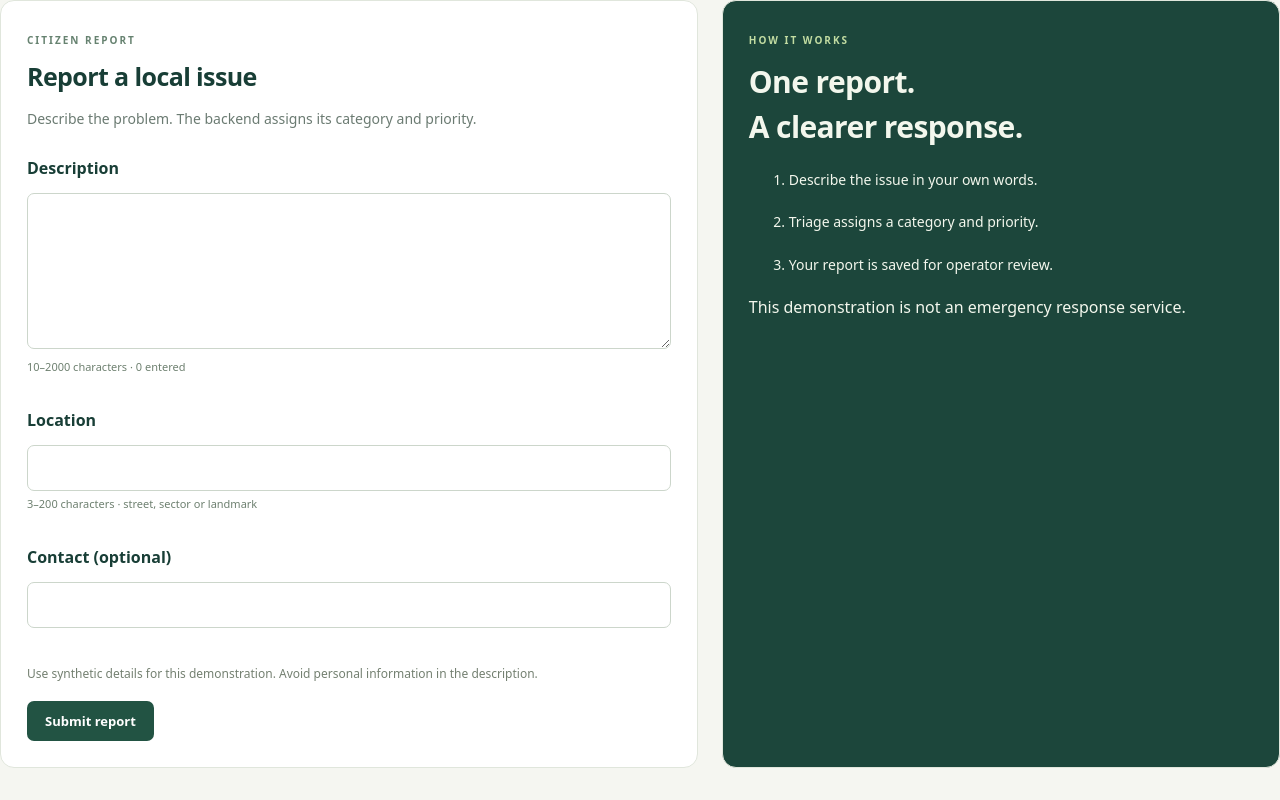
Test: complaint submission › disables submission while pending and sends optional contact
Step 1. Type "  Burst water pipe flooding the street.  " into the text box labelled "Description" → (349, 271), box left=27, top=193, right=671, bottom=349
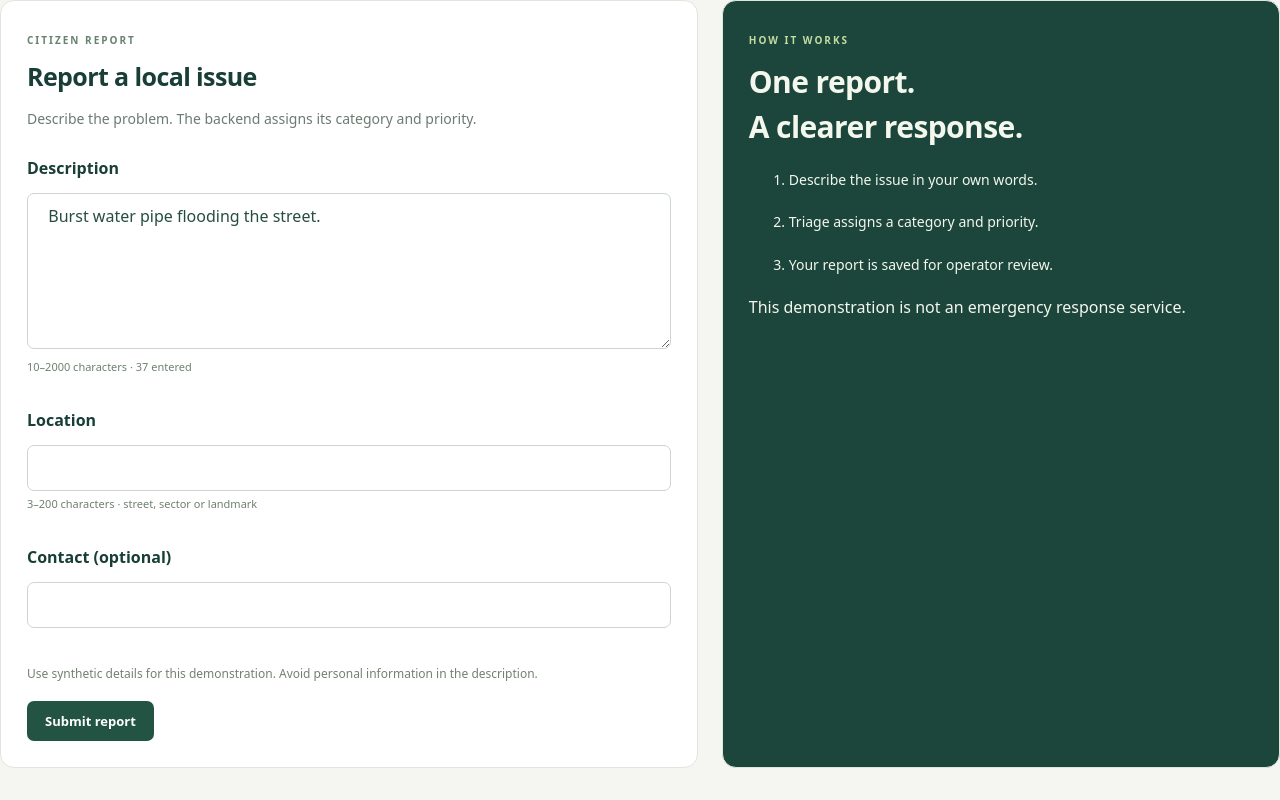
Step 2. Type "  Synthetic Street  " into the field labelled "Location" → (349, 468), box left=27, top=445, right=671, bottom=491
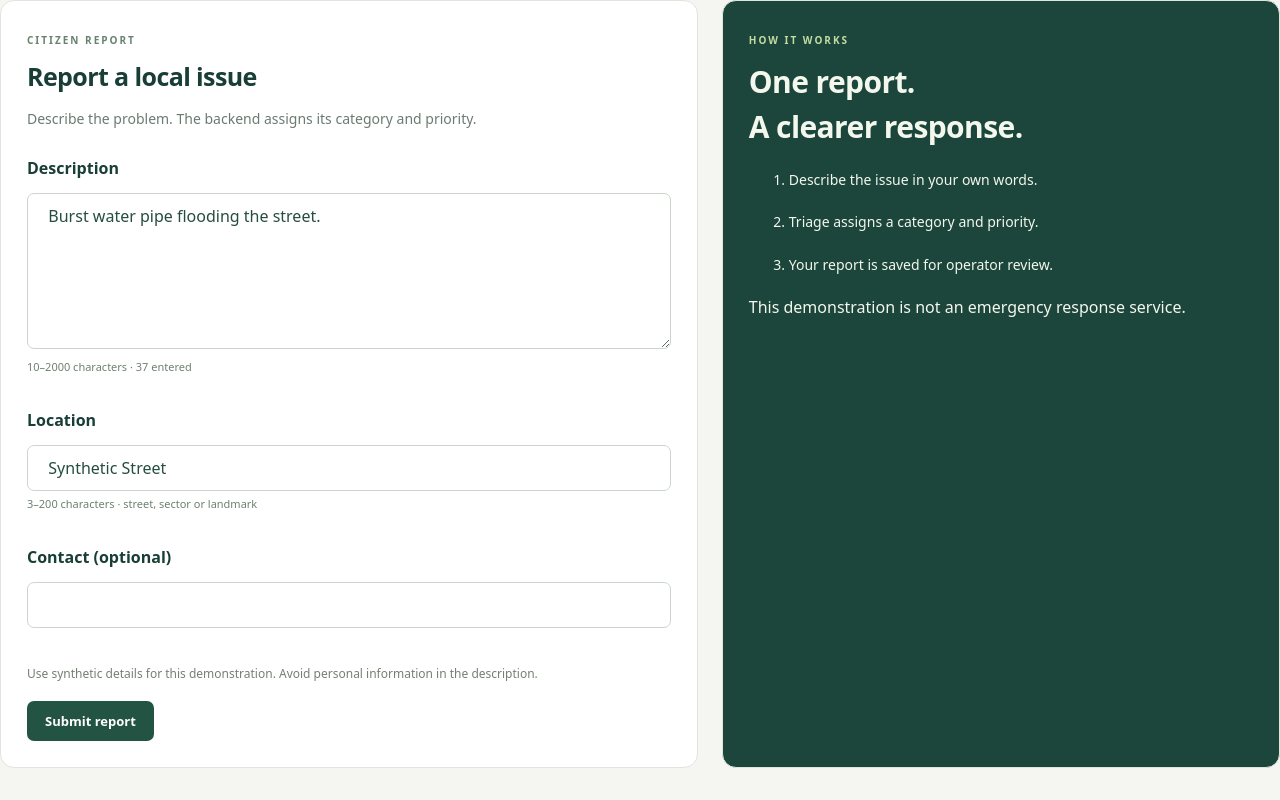
Step 3. Type " synthetic@example.com " into the field labelled "Contact (optional)" → (349, 605), box left=27, top=582, right=671, bottom=628
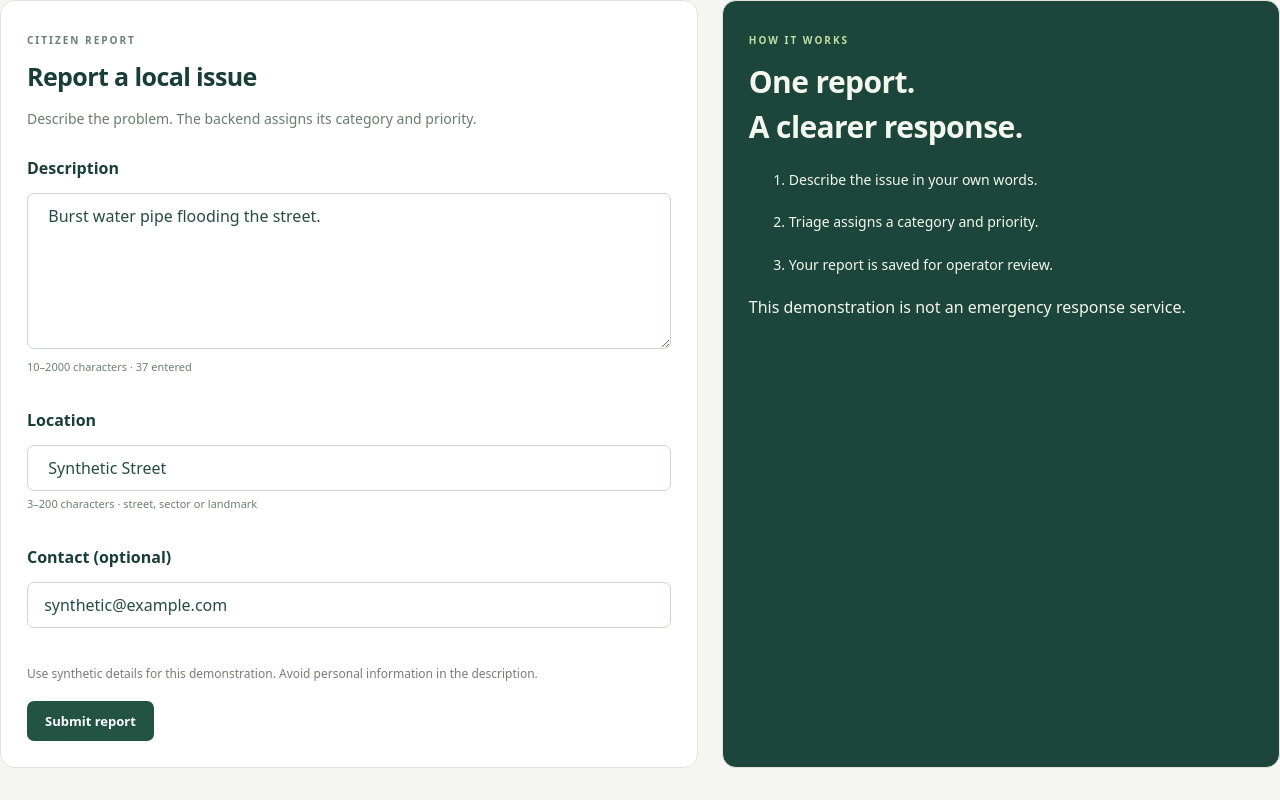
Step 4. Click the button "Submit report" → (90, 721), box left=27, top=701, right=154, bottom=741
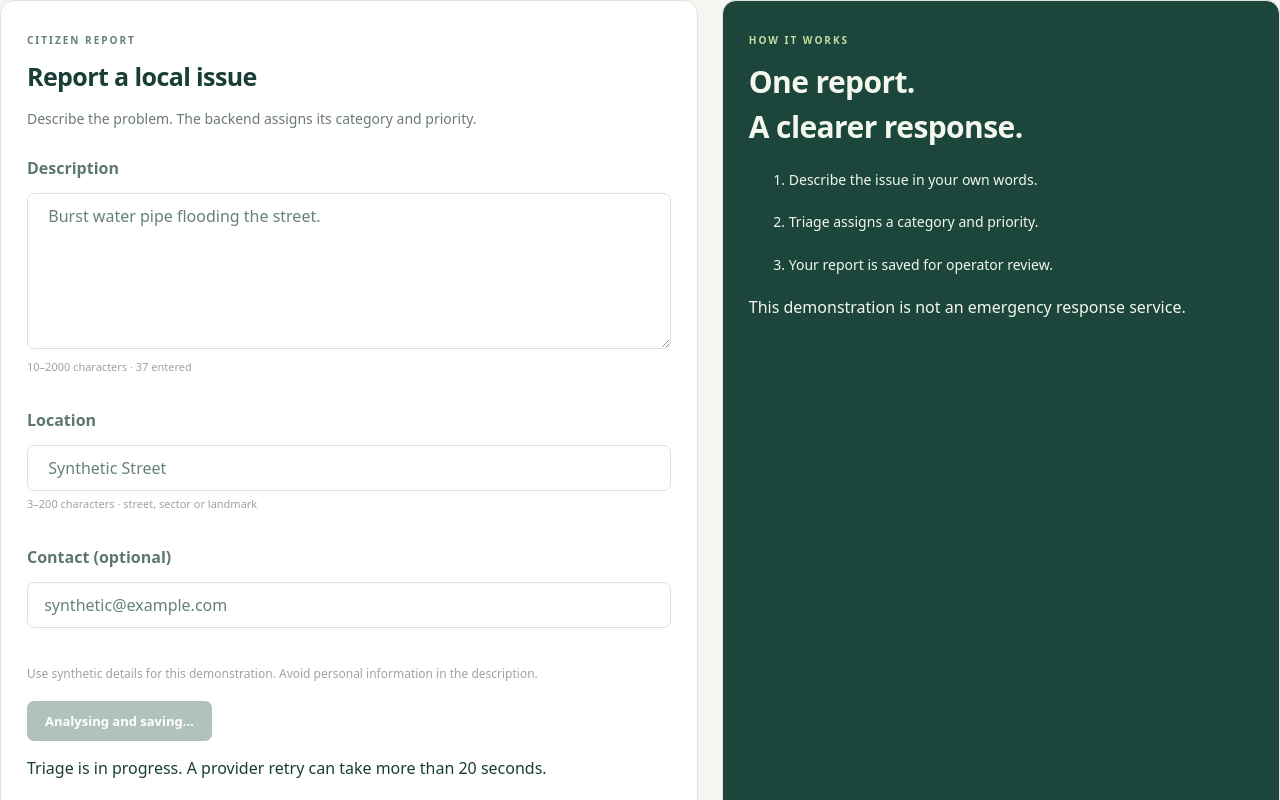
Step 5. Click the button "Analysing and saving…" → (119, 721), box left=27, top=701, right=212, bottom=741
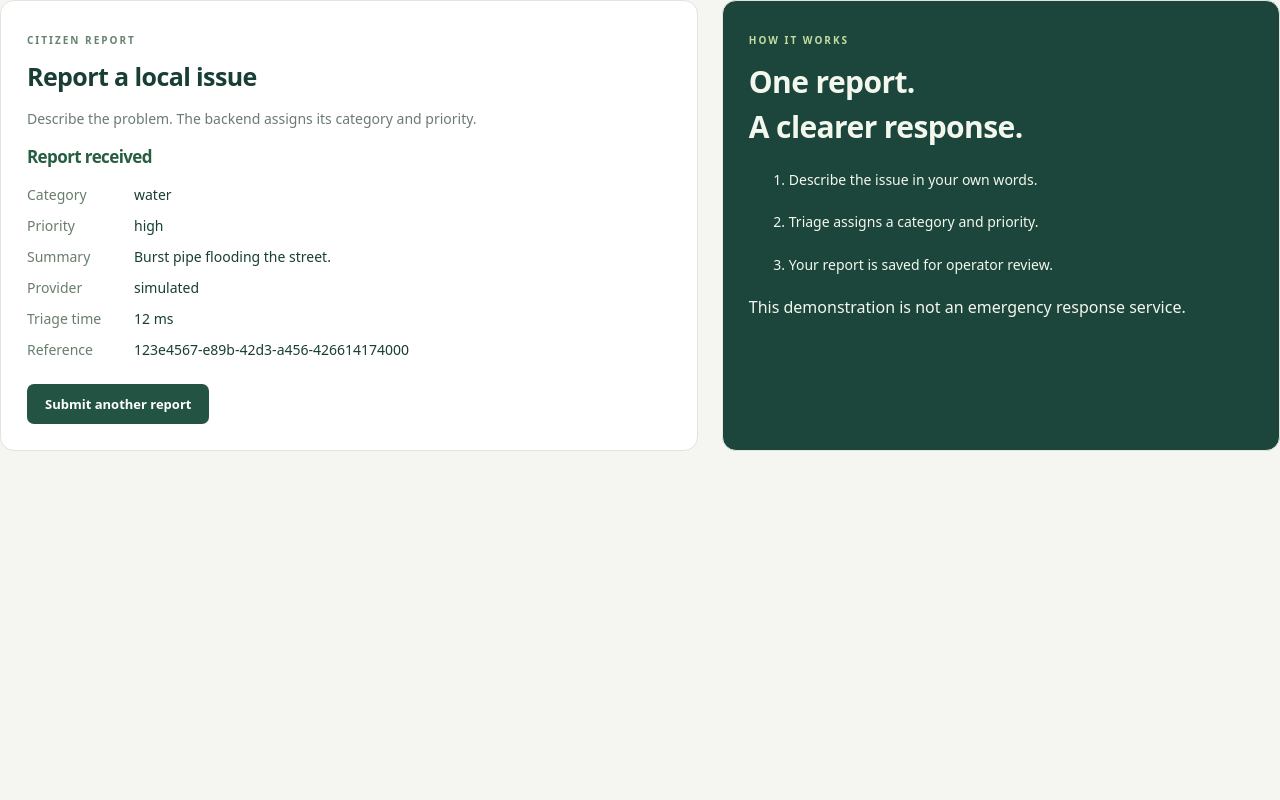
expect the heading "Report received" is shown: met, box left=27, top=145, right=152, bottom=168
